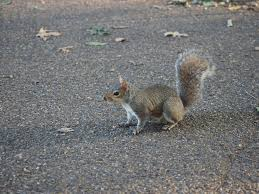squirrel: (103, 49, 213, 133)
